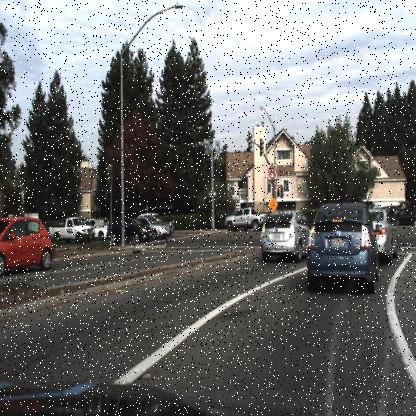car: (306, 200, 379, 292), (0, 215, 55, 282), (260, 211, 308, 266), (46, 212, 95, 242), (108, 214, 154, 243), (50, 216, 94, 243), (224, 206, 268, 232), (107, 219, 151, 244), (389, 202, 415, 228), (144, 216, 170, 241), (145, 215, 164, 234), (94, 216, 108, 240), (162, 214, 171, 230)
